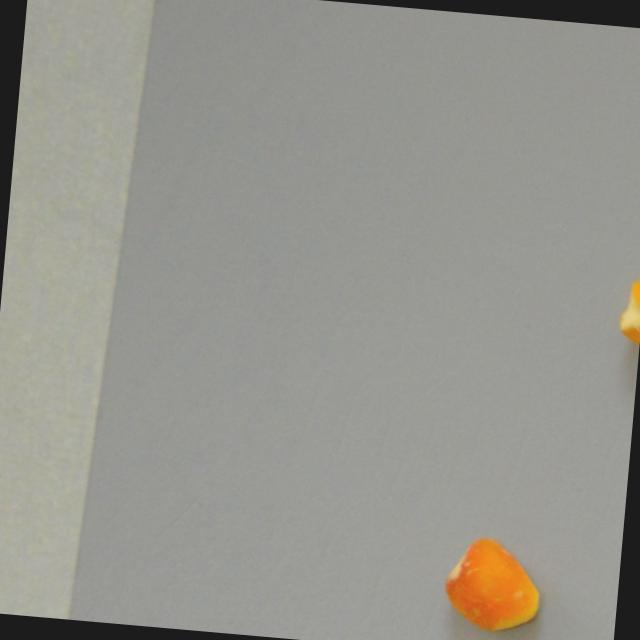dañado: (430, 526, 548, 640), (609, 257, 640, 372)
